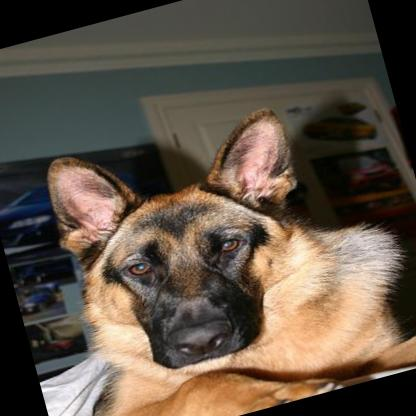German_shepherd: (0, 67, 416, 416)
